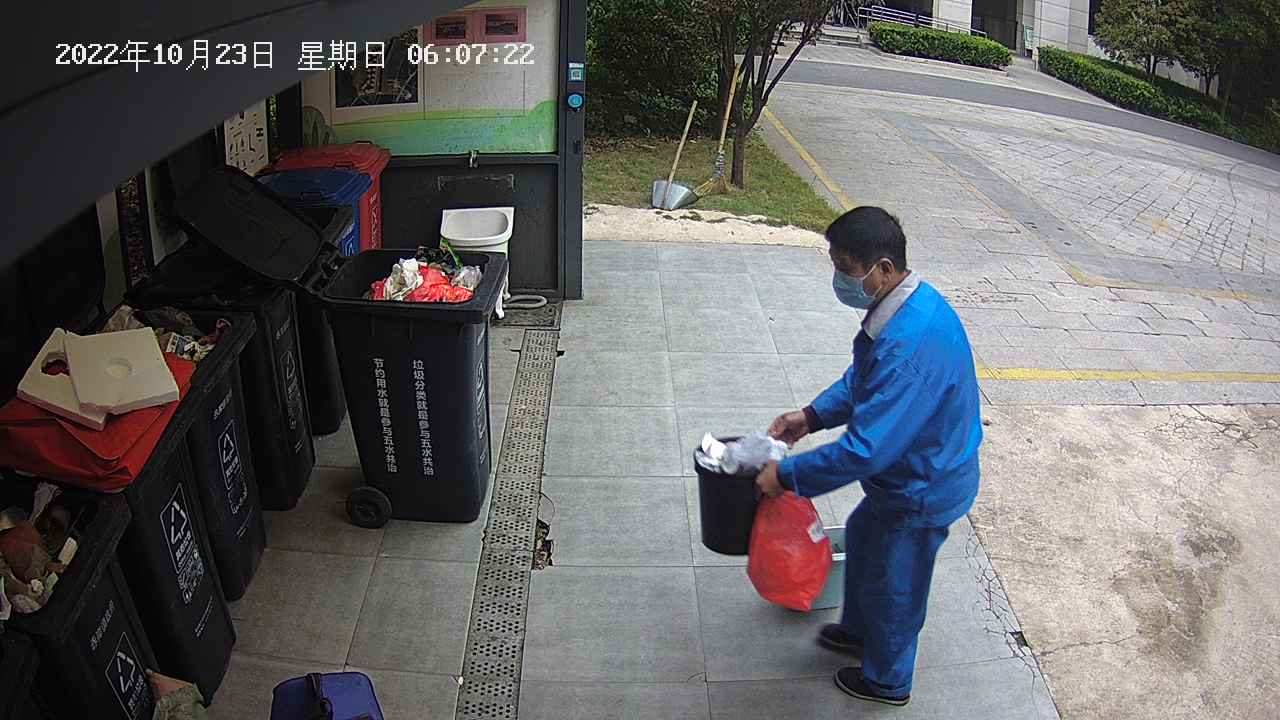garbage-bag: (741, 485, 838, 617)
worker: (751, 201, 989, 711)
youtong: (688, 428, 793, 562)
